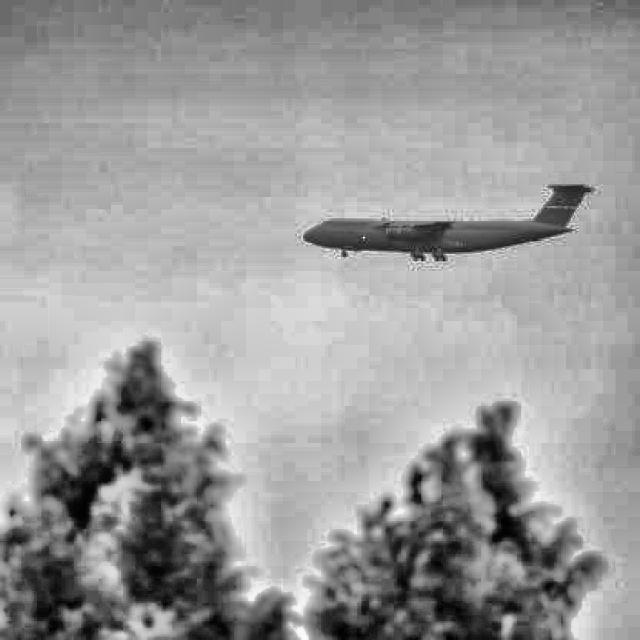C5: (302, 182, 596, 261)
